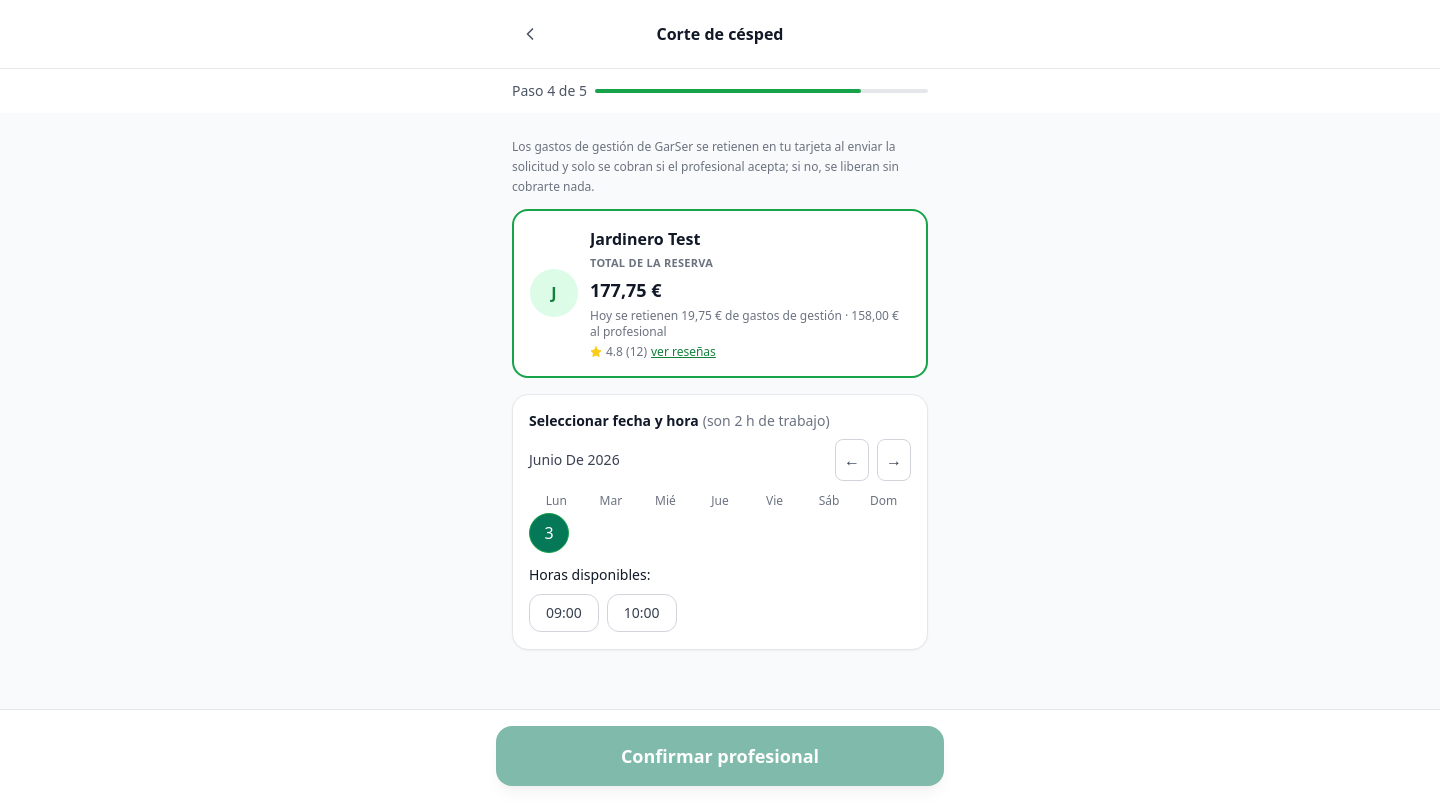
Test: ProvidersPage › mes sin días reservables (H-35) › si el cliente vuelve al mes vacío, lo ve vacío y sin error (no le devuelve al otro)
Expected: the button "09:00" is shown, x1=529 y1=594 x2=599 y2=632
What coordinates should you click on to do the following:
click the button named "Ver mes anterior"
I would click on:
 (852, 460)
Its box is x1=835 y1=438 x2=869 y2=480.
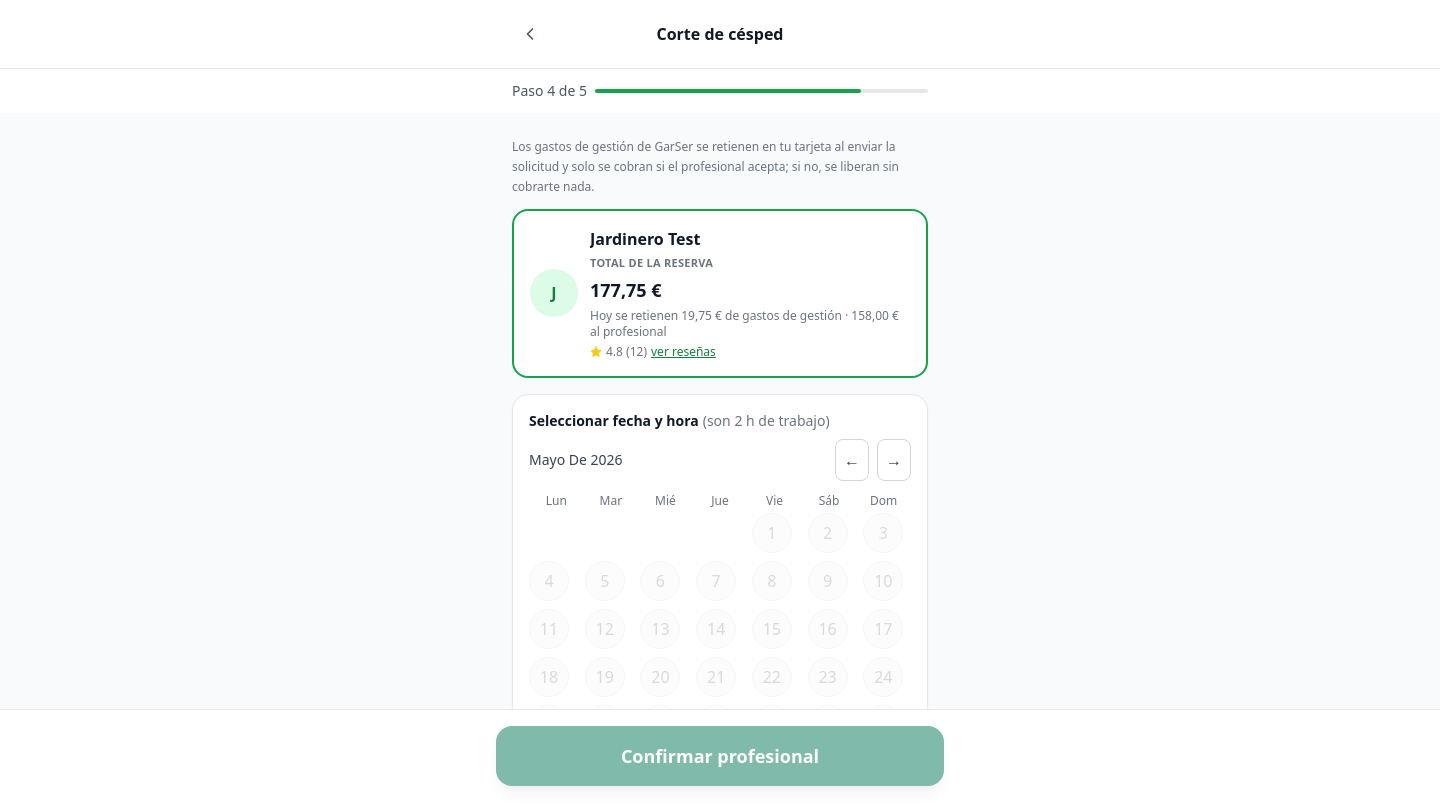
Expected: the text "177,75 €" is shown, x1=590 y1=276 x2=662 y2=304
Now the text "mayo" is shown, box x1=529 y1=450 x2=623 y2=468
Now the number of buttons named "Seleccionar 2026-05-" is 31
